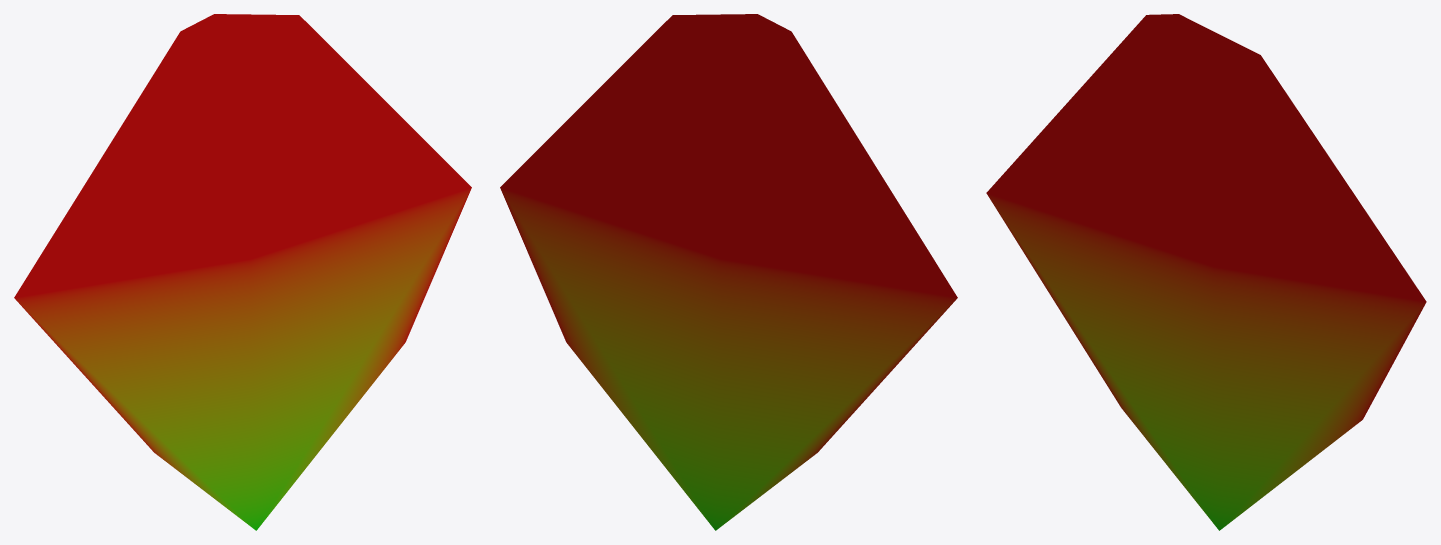
File: Rose Hip_LOD5_Var1.fbx
3 views of the same model, side by side, from view 1: azimuth 30°, elevation 25°; view 2: azimuth 150°, elevation 25°; view 3: azimuth 330°, elevation 25° (orthographic). The views are drawn at different scales.
Parts seen in each view (by area): view 1: _4jwm_Var1_LOD5; view 2: _4jwm_Var1_LOD5; view 3: _4jwm_Var1_LOD5.
Boxes of the visible parts, <box> form: _4jwm_Var1_LOD5: <box>14,14,471,530</box>; _4jwm_Var1_LOD5: <box>500,14,957,530</box>; _4jwm_Var1_LOD5: <box>986,14,1426,530</box>.
Size of the model in its own units: 119 by 130 by 2.33e-10.
